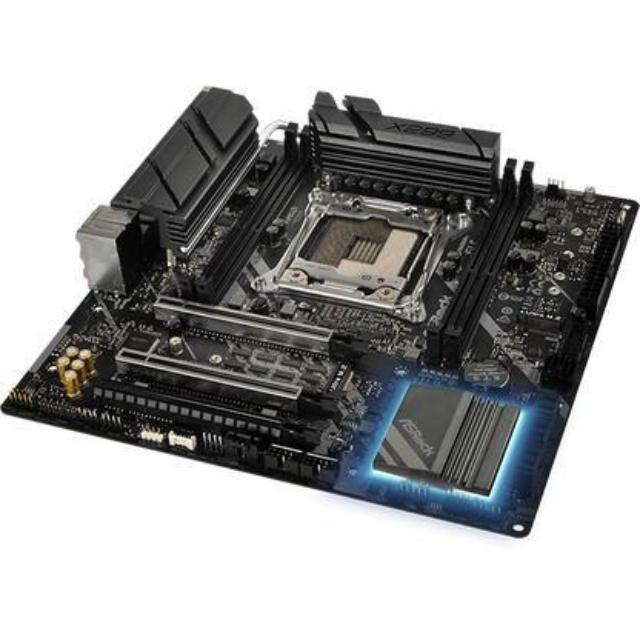Mainboard: (0, 71, 640, 544)
